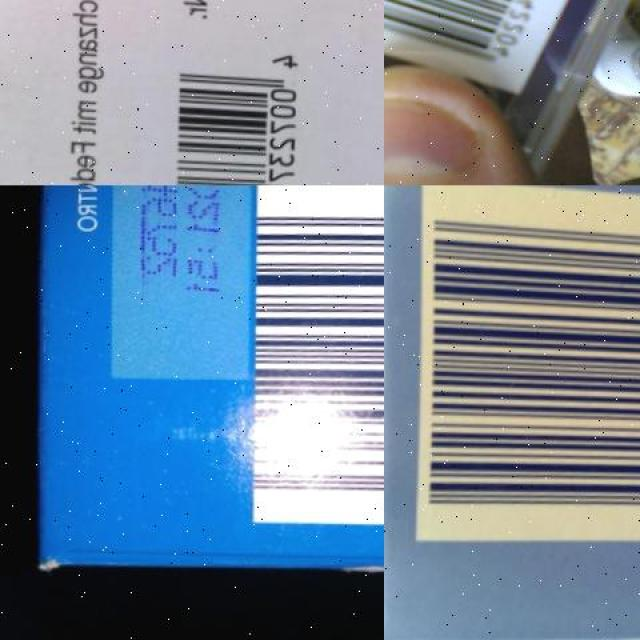Barcode: (412, 186, 640, 542), (245, 185, 384, 527), (154, 34, 322, 185), (384, 0, 627, 96)
